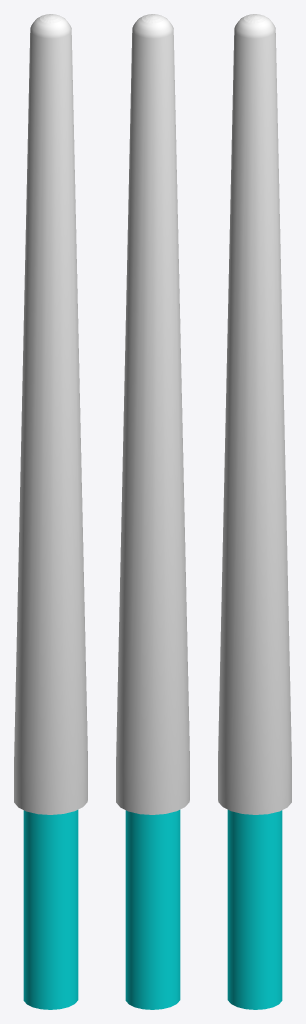
The model's file is neonweapon.FBX.
The picture shows the model from 3 angles, left to right: view 1: azimuth 30°, elevation 25°; view 2: azimuth 210°, elevation 25°; view 3: azimuth 330°, elevation 25°; orthographic projection.
Visible parts, largest first — view 1: neonweapon; view 2: neonweapon; view 3: neonweapon.
Part boxes in pixels (<box>): neonweapon: <box>14,14,87,1009</box>; neonweapon: <box>116,14,189,1009</box>; neonweapon: <box>218,14,291,1009</box>.
Bounding box in the file's own units: 2.06 × 29.61 × 1.97.
